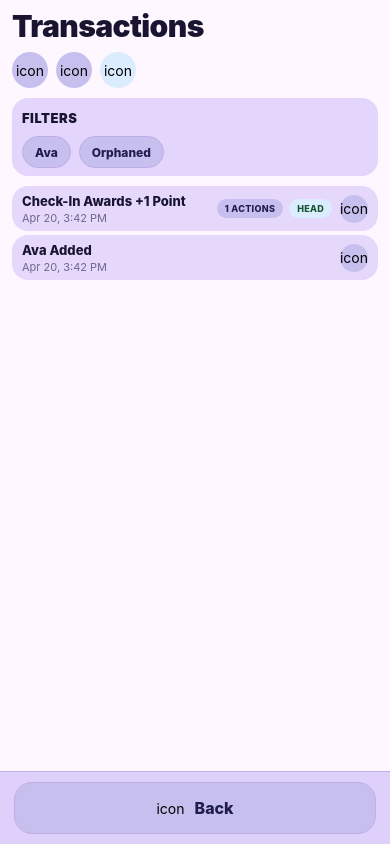
Test: TransactionsScreen › shows a parent tile for a single-row check-in session
This screenshot has width=390, height=844.
Check: the text with test id "transaction-summary-0" reads "Check-In Awards +1 Point", box [22,193,186,209]
Check: the text "1 Actions" is shown, box [225,203,275,214]
Click the button with aria-label "Expand Check-In Awards +1 Point": [104, 201] box [22,192,368,225]
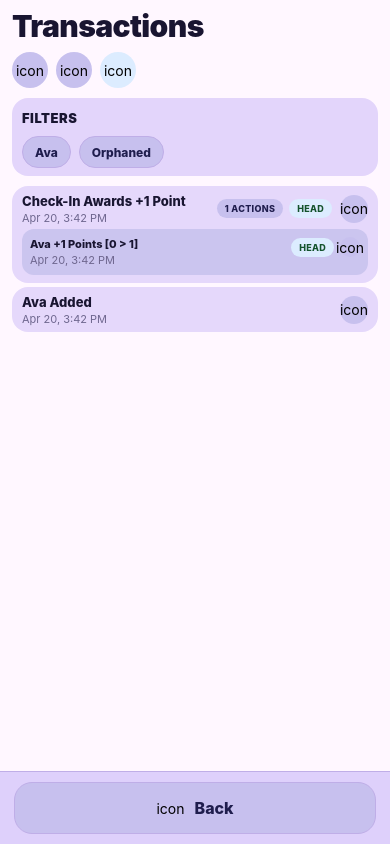
Check: the text "Ava +1 Points [0 > 1]" is shown, box [30,237,138,251]
